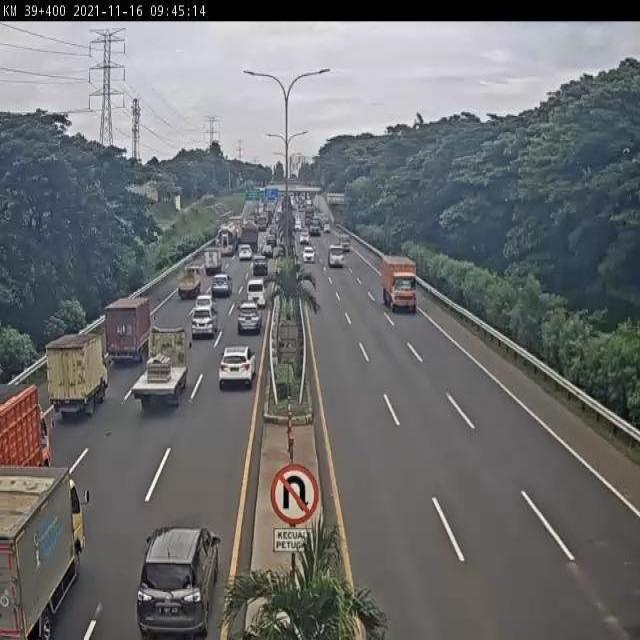Car: (136, 524, 222, 640), (218, 345, 258, 391), (235, 302, 262, 334), (192, 307, 218, 339), (212, 273, 233, 298), (252, 256, 269, 276), (195, 294, 217, 308), (237, 243, 253, 261), (302, 246, 315, 264), (261, 244, 273, 258), (298, 230, 310, 243), (293, 220, 303, 231)
Truck: (0, 465, 91, 640), (45, 332, 113, 419), (130, 326, 193, 410), (0, 383, 56, 470), (105, 297, 152, 364), (381, 254, 419, 314), (176, 265, 201, 300), (216, 222, 238, 256), (239, 219, 258, 254), (202, 248, 223, 276), (304, 206, 315, 226)
Van: (246, 279, 268, 307), (327, 244, 345, 268)
